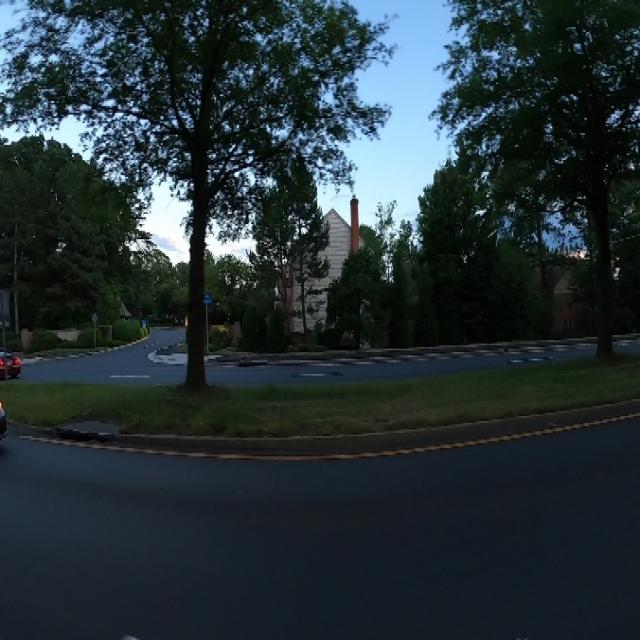cars: (0, 340, 25, 384), (0, 378, 10, 455)
